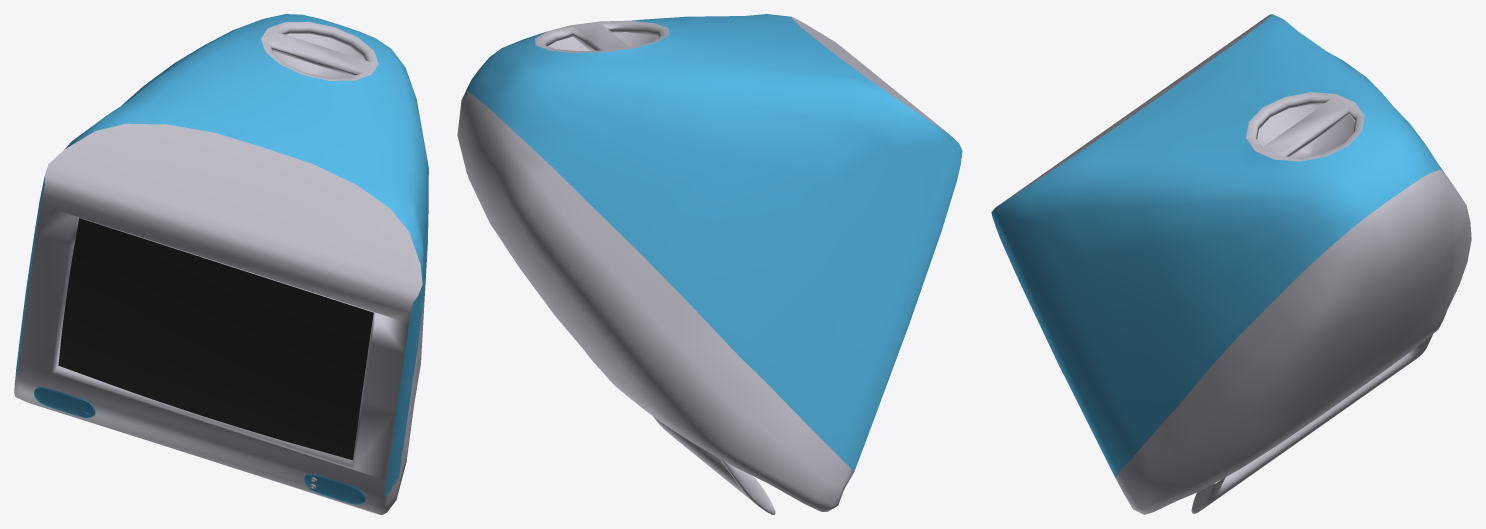
Rendered from AnimationsModel.glb.
The picture shows the model from 3 angles, left to right: view 1: azimuth 30°, elevation 25°; view 2: azimuth 150°, elevation 25°; view 3: azimuth 270°, elevation 25°; orthographic projection. The views are drawn at different scales.
Visible parts, largest first — view 1: Animation_Mac; view 2: Animation_Mac; view 3: Animation_Mac.
Part boxes in pixels (<box>): Animation_Mac: <box>14,14,428,514</box>; Animation_Mac: <box>457,14,962,514</box>; Animation_Mac: <box>991,14,1471,514</box>.
Size of the model in its own units: 4.82 by 4.65 by 4.95.
